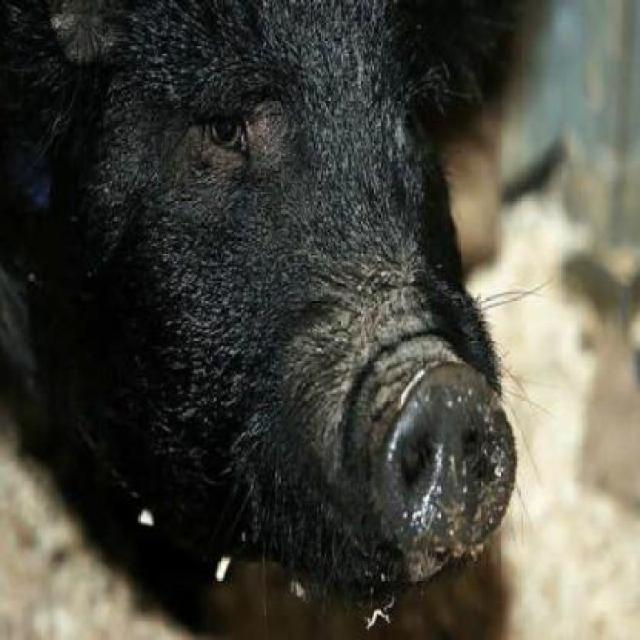Boar: (1, 0, 520, 618)
